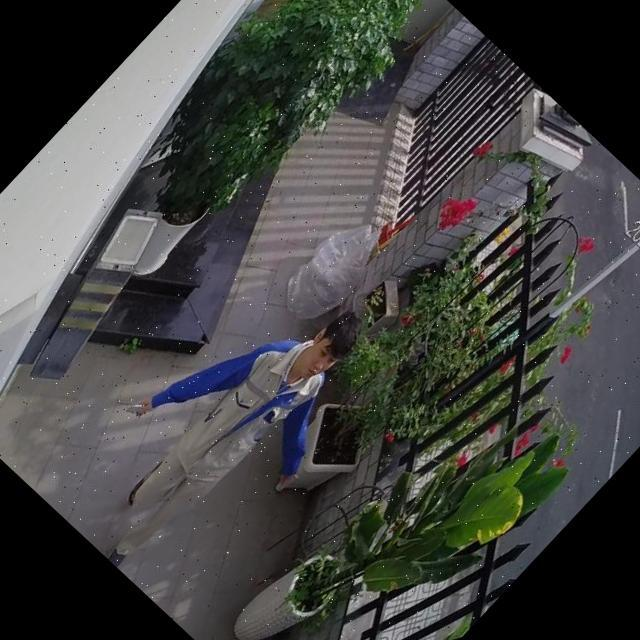person: (49, 248, 406, 614)
